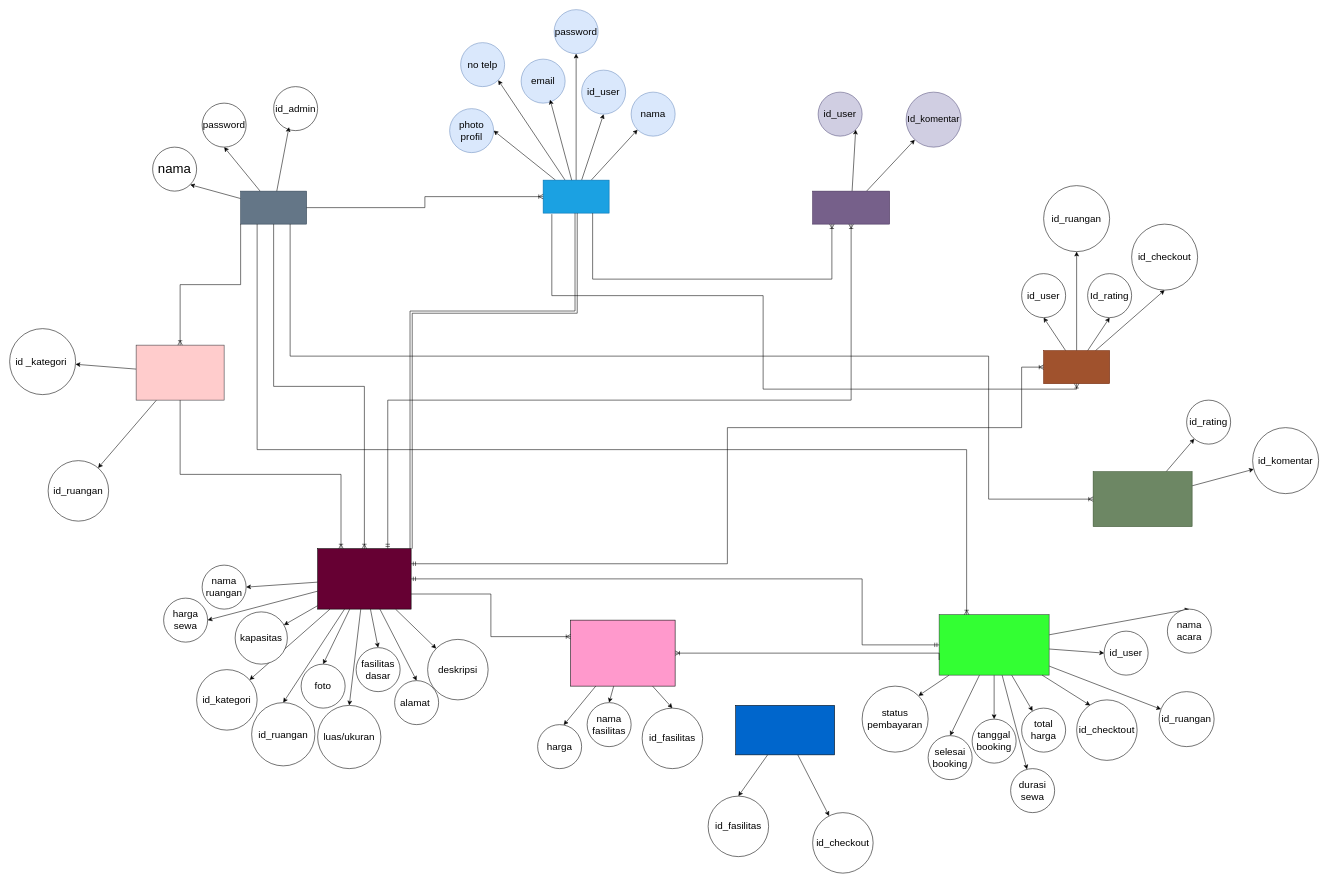
Image size: 1328x883. Some labels were removed from this diagram. Here are the shapes that lost their labels. From the top down, the box of each, then its label:
(240, 191, 307, 224): Admin
(543, 180, 609, 213): USER
(812, 191, 890, 224): komentar
(136, 345, 224, 400): kategori
(1043, 350, 1110, 384): rating
(1093, 471, 1192, 527): Umpan balik
(317, 548, 411, 609): ruangan
(570, 620, 675, 686): fasilitas tambahan
(939, 614, 1049, 675): Checkout
(735, 705, 835, 755): checkout fasilitas
